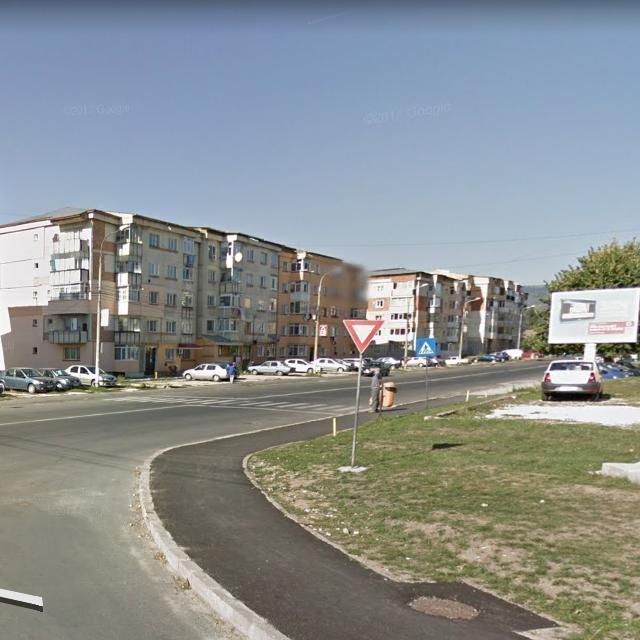info_crosswalk: (414, 335, 437, 359)
prio_give_way: (340, 317, 382, 354)
